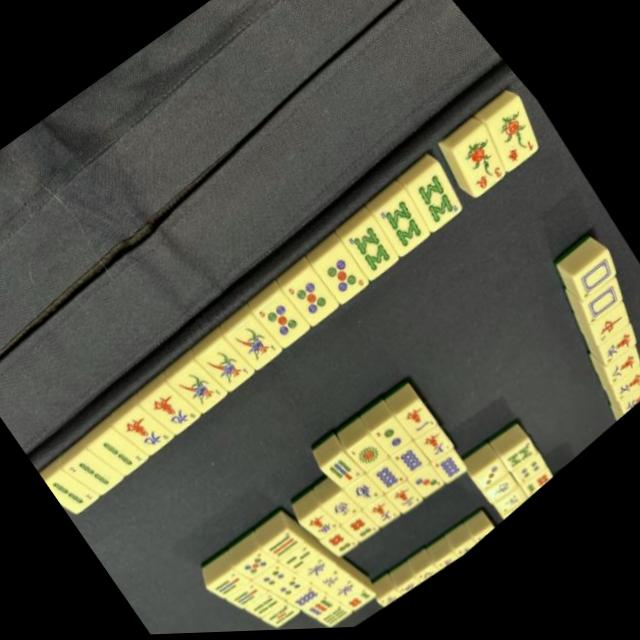bs1: (488, 109, 564, 188)
bs3: (451, 133, 528, 215)
hws: (348, 478, 388, 521)
hww: (328, 493, 367, 534)
sb1: (234, 318, 292, 381), (178, 361, 236, 423), (207, 340, 264, 401)
sb2: (44, 456, 105, 522), (96, 419, 156, 485), (68, 443, 127, 506)
sb8: (411, 172, 480, 246), (377, 197, 445, 270), (345, 221, 412, 292)
sc3: (388, 485, 429, 527)
sc5: (302, 507, 346, 553)
sc7: (364, 499, 404, 540)
sc9: (120, 399, 183, 466), (147, 378, 210, 445)
sd1: (346, 438, 392, 486)
sd3: (409, 470, 451, 513)
sd5: (258, 292, 319, 357), (288, 272, 347, 335), (321, 253, 379, 315)
sd6: (343, 511, 386, 555), (320, 528, 362, 571)
sd8: (394, 447, 436, 491), (433, 455, 475, 498), (372, 463, 412, 507)
